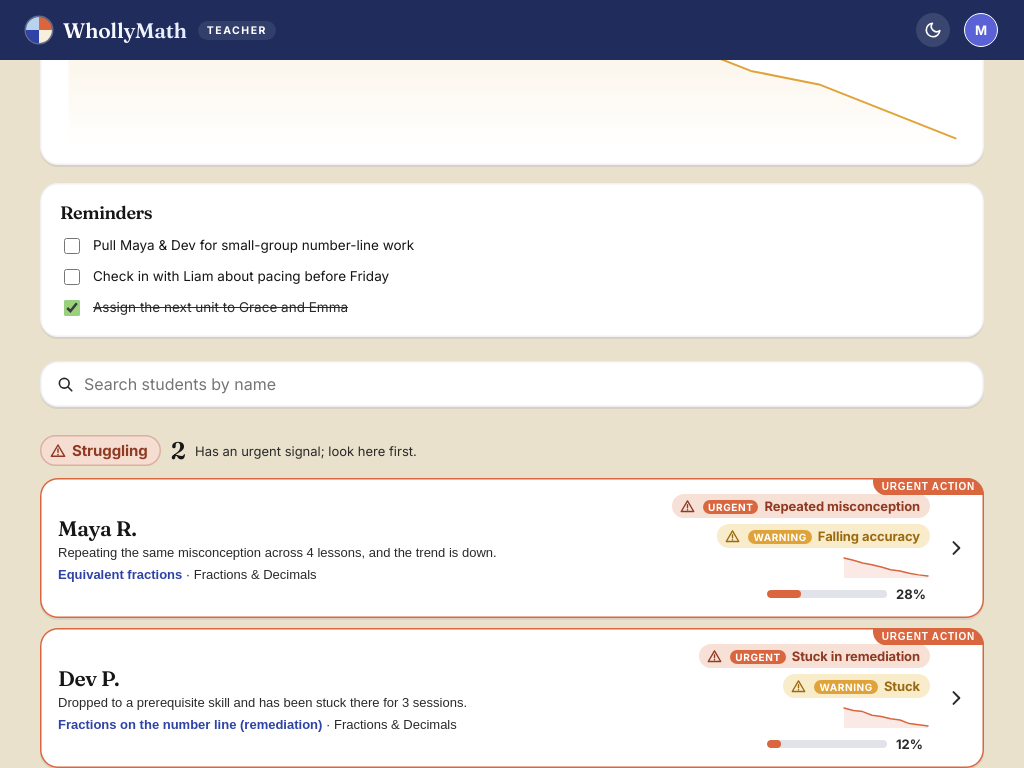
TeacherDashboard › shows an empty message when no student matches
The image size is (1024, 768).
(page scrolled)
Type "zzzz" into the search field labelled "Search students by name" at (526, 384), box [84,361,968,407]
(page scrolled)
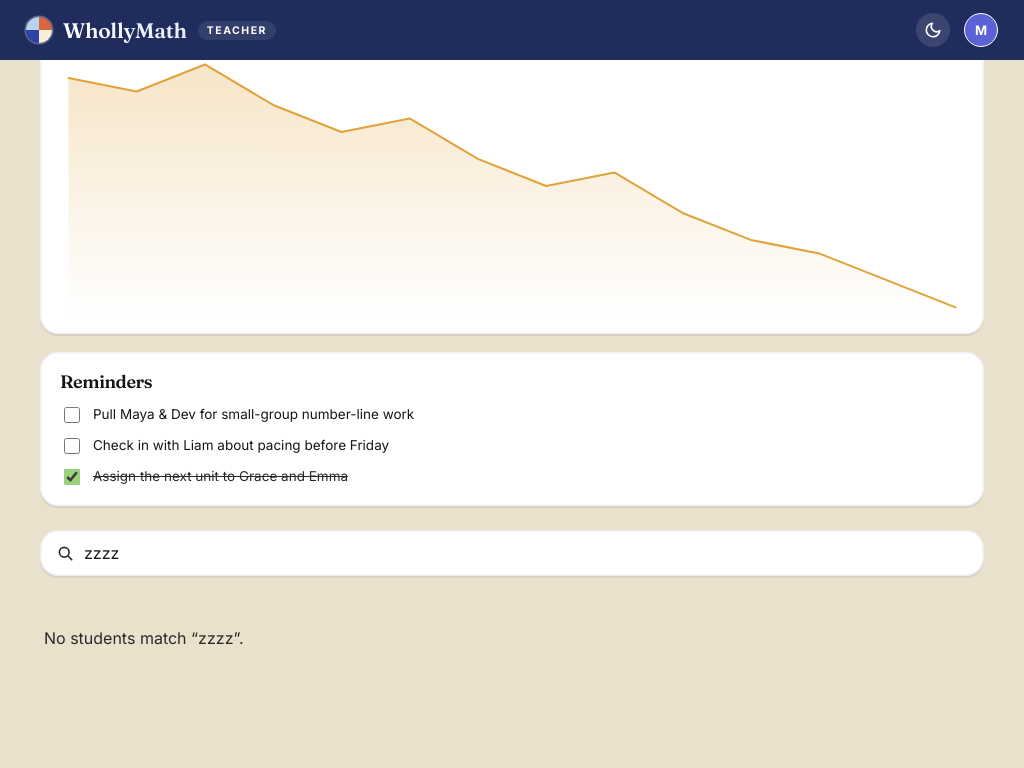
Result: the text "No students match “zzzz”." is shown at [44,628,244,648]
